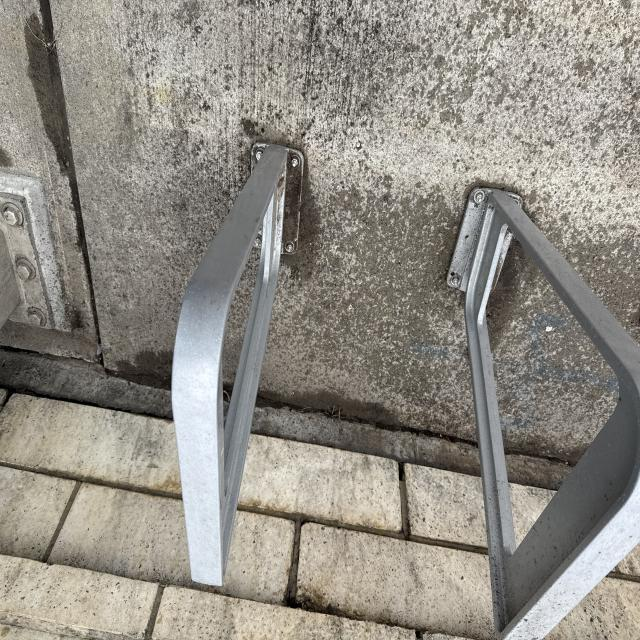Bicycle Rack: (439, 186, 639, 630), (171, 142, 306, 604)
